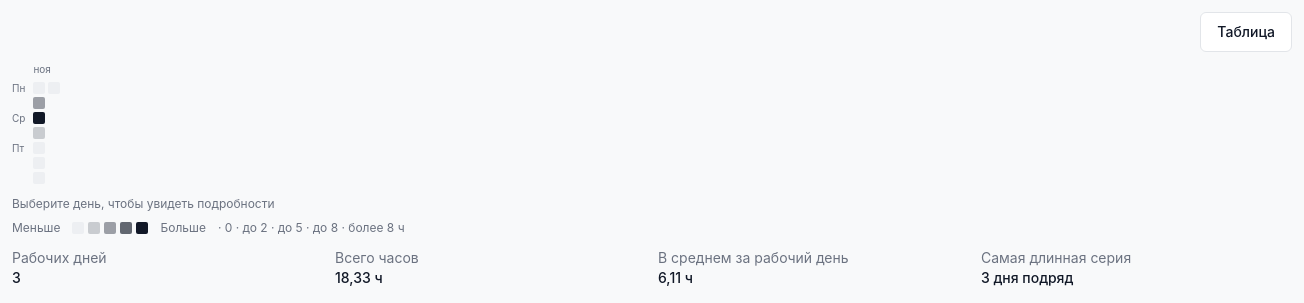
тепловая карта активности › переключатель «Таблица»: дни с активностью по убыванию даты
Click the button "Таблица" at (1246, 32), box [1200,12,1292,52]
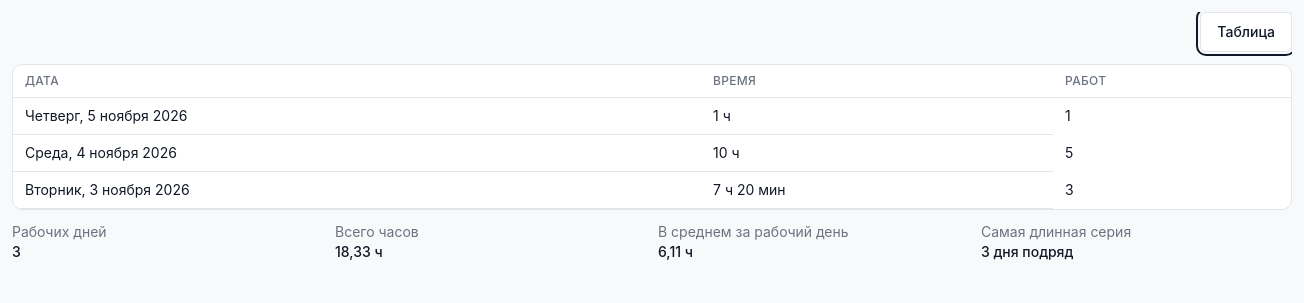
Expected: the number of rows is 4, [13,65,1291,98]; [13,98,1291,134]; [13,134,1291,172]; [13,172,1291,208]
Expected: the row "Четверг, 5 ноября 2026 1 ч 1" is shown, [13,98,1291,134]
Expected: the row "Вторник, 3 ноября 2026 7 ч 20 мин 3" is shown, [13,172,1291,208]
